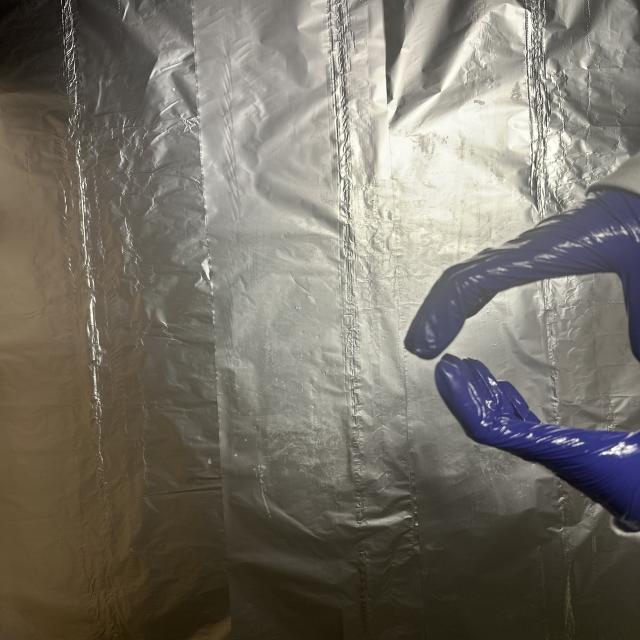gloves_contaminated: (405, 186, 640, 362), (435, 356, 640, 532)
